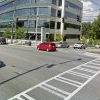crosswalk: (9, 58, 99, 100)
